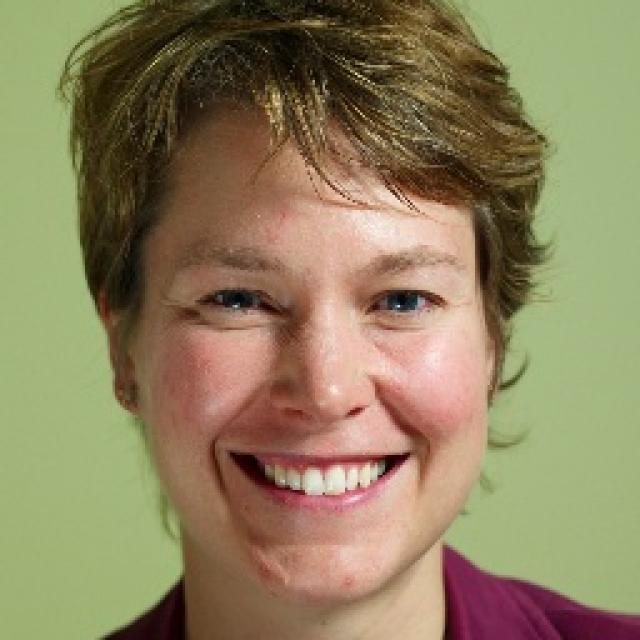earlobe: (96, 287, 138, 415)
